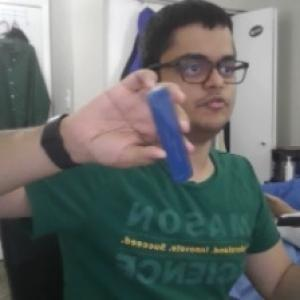Diamond-E-Ciggirate: (145, 86, 196, 186)
